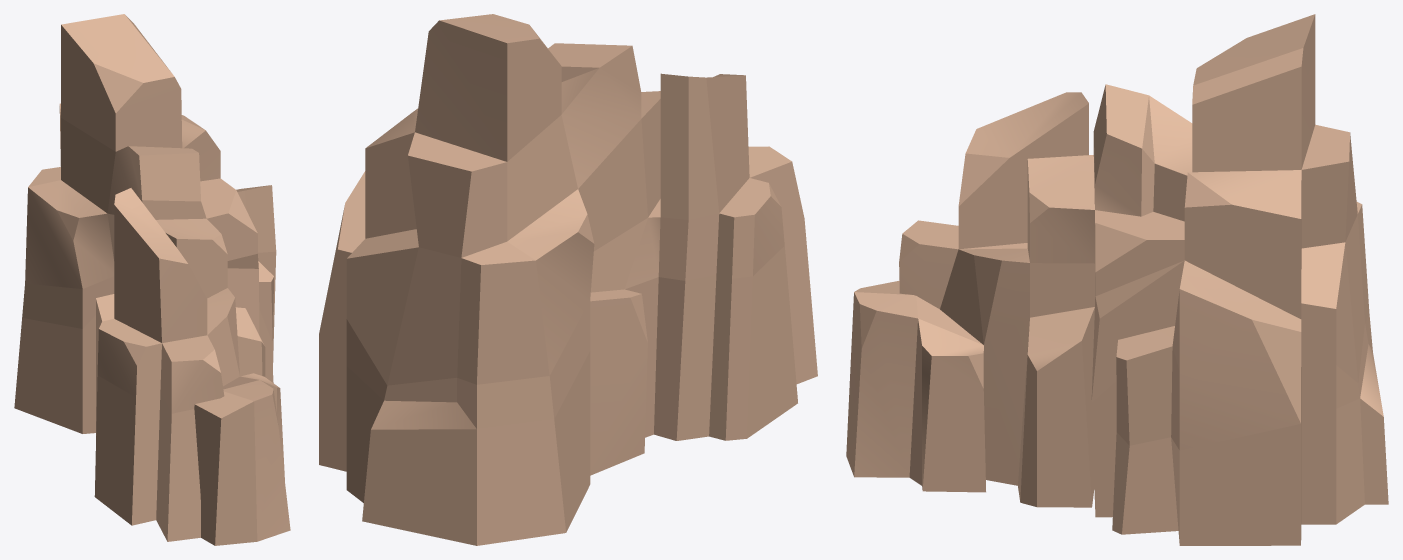
The model's file is Cliff_Rock_1.fbx.
3 views of the same model, side by side, from view 1: azimuth 30°, elevation 25°; view 2: azimuth 150°, elevation 25°; view 3: azimuth 270°, elevation 25° (orthographic). The views are drawn at different scales.
Visible parts, largest first — view 1: Cliff_Rock_1; view 2: Cliff_Rock_1; view 3: Cliff_Rock_1.
Boxes of the visible parts, box(x1,y1,x2,y2) form: Cliff_Rock_1: box(14, 14, 290, 545); Cliff_Rock_1: box(319, 14, 817, 545); Cliff_Rock_1: box(846, 14, 1388, 545).
Bounding box in the file's own units: 242 × 364 × 404.
